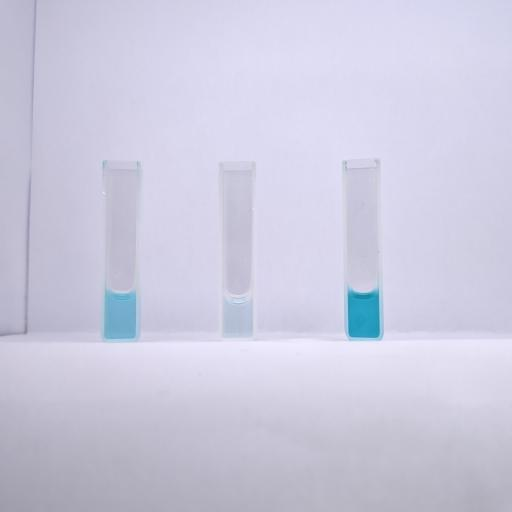cuvette: (340, 157, 386, 342), (99, 158, 142, 343), (217, 160, 258, 342)
liquid: (104, 291, 136, 339), (348, 290, 380, 337), (222, 294, 253, 338)
